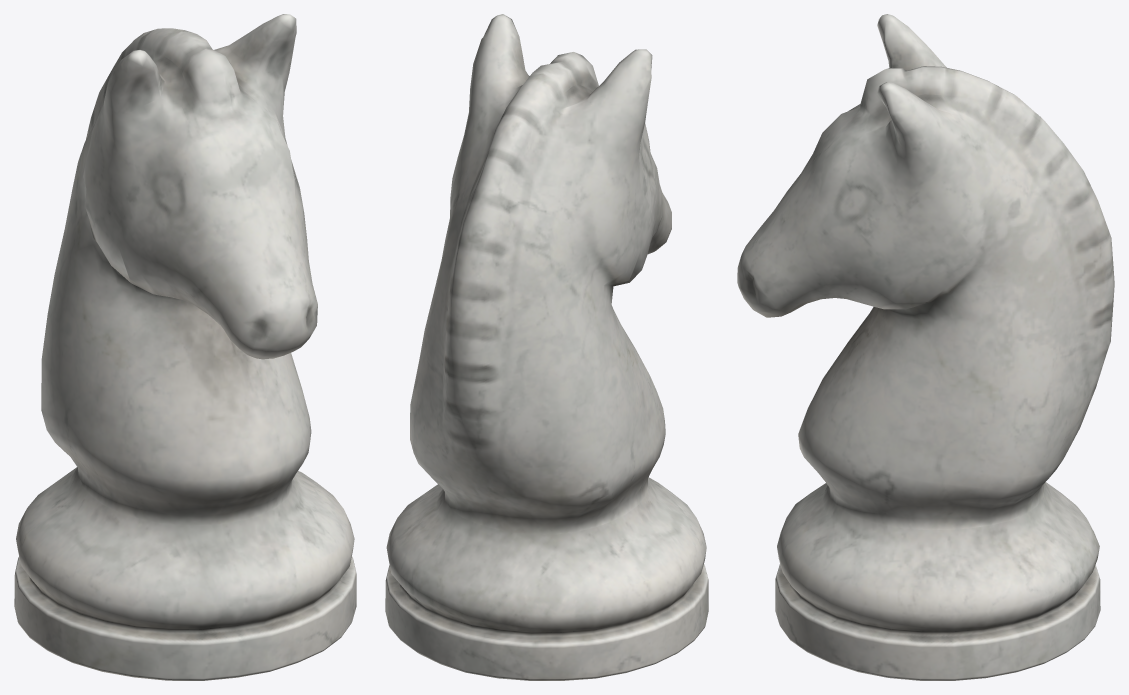
File: Horse.gltf
3 renders of one model, left to right at view 1: azimuth 30°, elevation 25°; view 2: azimuth 150°, elevation 25°; view 3: azimuth 270°, elevation 25°, orthographic. The views are drawn at different scales.
Parts seen in each view (by area): view 1: piece_knight_white_02; view 2: piece_knight_white_02; view 3: piece_knight_white_02.
Part boxes in pixels (x1,y1,x2,y2): piece_knight_white_02: (14,14,356,680); piece_knight_white_02: (385,14,708,680); piece_knight_white_02: (737,14,1114,680).
Bounding box in the file's own units: 0.0388 × 0.075 × 0.0454.
1 material, 1 textured.
